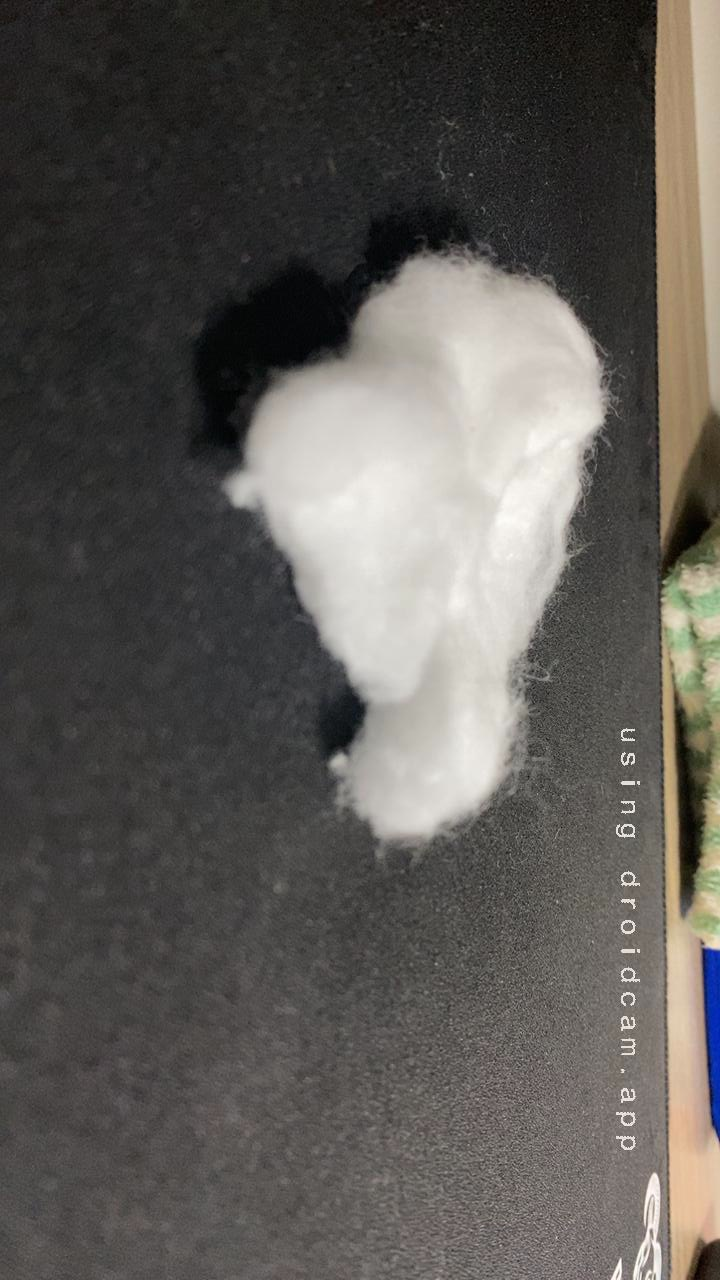cotton: (191, 217, 657, 898)
